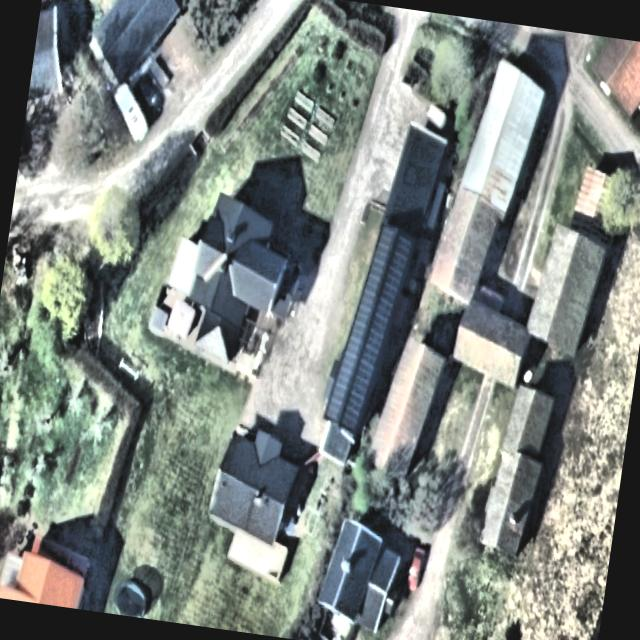roof_pv: (386, 230, 415, 290), (368, 224, 398, 281), (362, 316, 390, 370), (320, 382, 350, 428), (349, 358, 376, 408), (354, 273, 383, 319), (344, 316, 373, 357), (376, 279, 400, 326), (342, 400, 372, 437), (334, 348, 359, 389)
